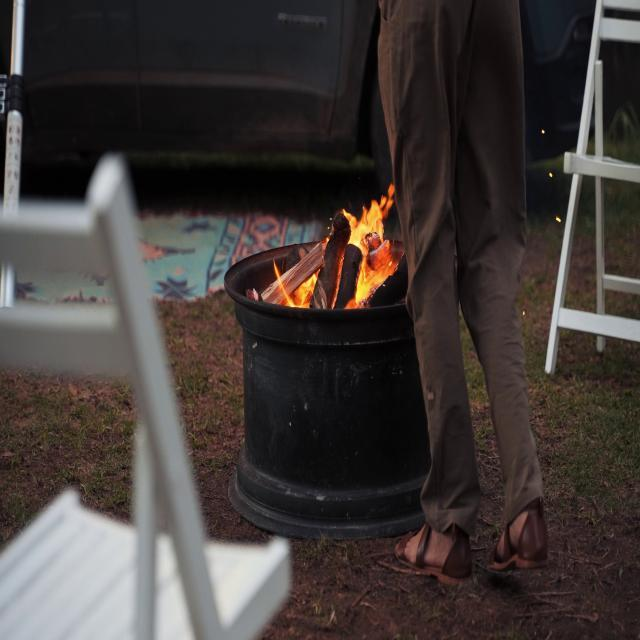Fire: (274, 184, 410, 300)
